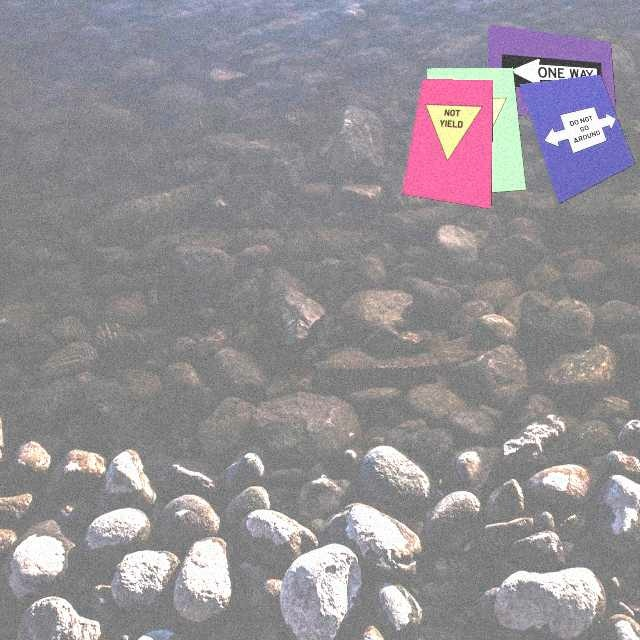DO_NOT_GO_AROUND: (537, 103, 625, 162)
NOT_YIELD: (435, 95, 514, 167), (417, 104, 483, 165)
ONE_WAY_ left: (500, 51, 605, 99)
